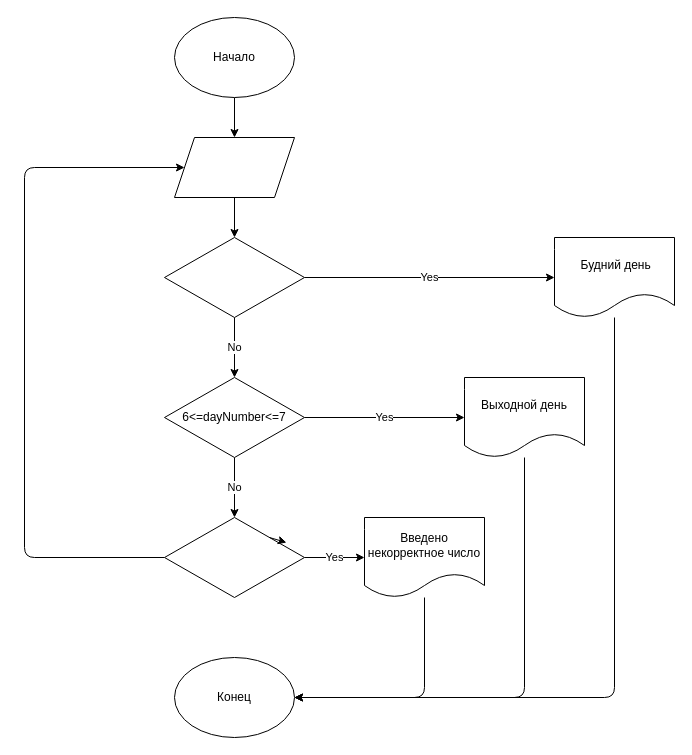
Image size: 692x755. Some labels were removed from this diagram. The shapes that lost their labels are listed below. From the top down, each one's centre as x and y in pixels, then its label:
At (234,167): "dayNumber".
At (234,277): "1<=dayNumber<=5".
At (234,557): "dayNumber>7".
